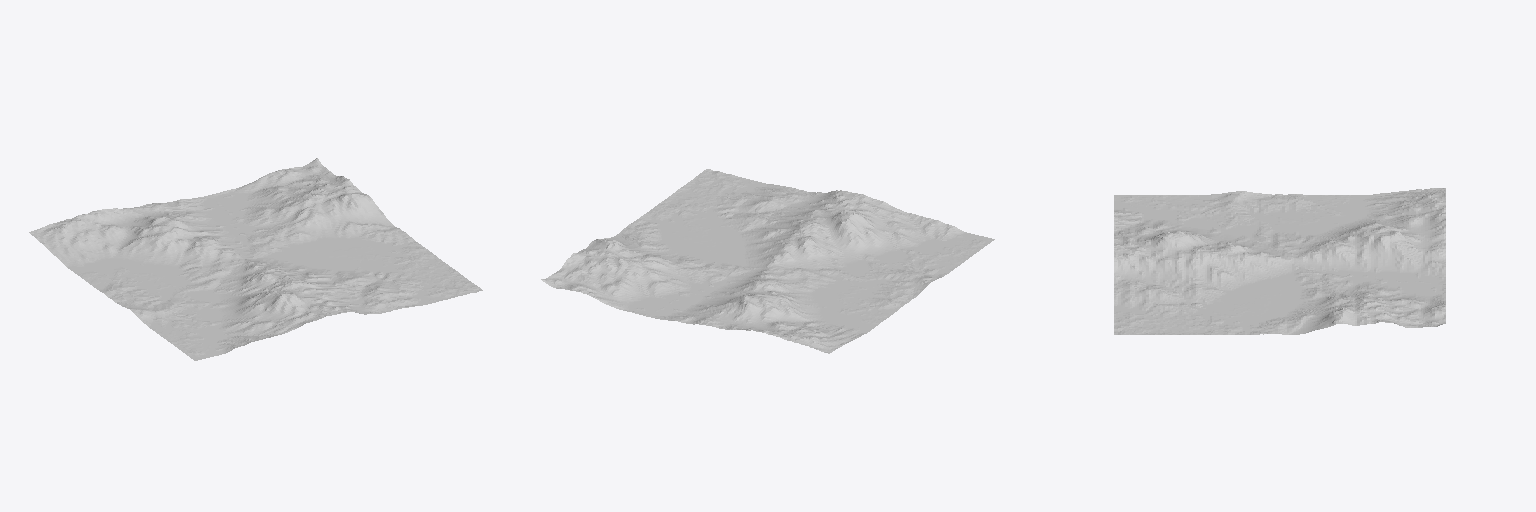
The model's file is land.obj.
3 renders of one model, left to right at view 1: azimuth 30°, elevation 25°; view 2: azimuth 150°, elevation 25°; view 3: azimuth 270°, elevation 25°, orthographic.
Visible parts, largest first — view 1: Channelled_land_01_TerrainMesh; view 2: Channelled_land_01_TerrainMesh; view 3: Channelled_land_01_TerrainMesh.
Boxes of the visible parts, x1=… form: Channelled_land_01_TerrainMesh: x1=29, y1=158, x2=482, y2=360; Channelled_land_01_TerrainMesh: x1=541, y1=169, x2=994, y2=353; Channelled_land_01_TerrainMesh: x1=1114, y1=188, x2=1445, y2=334.
Size of the model in its own units: 16000 by 973 by 16000.